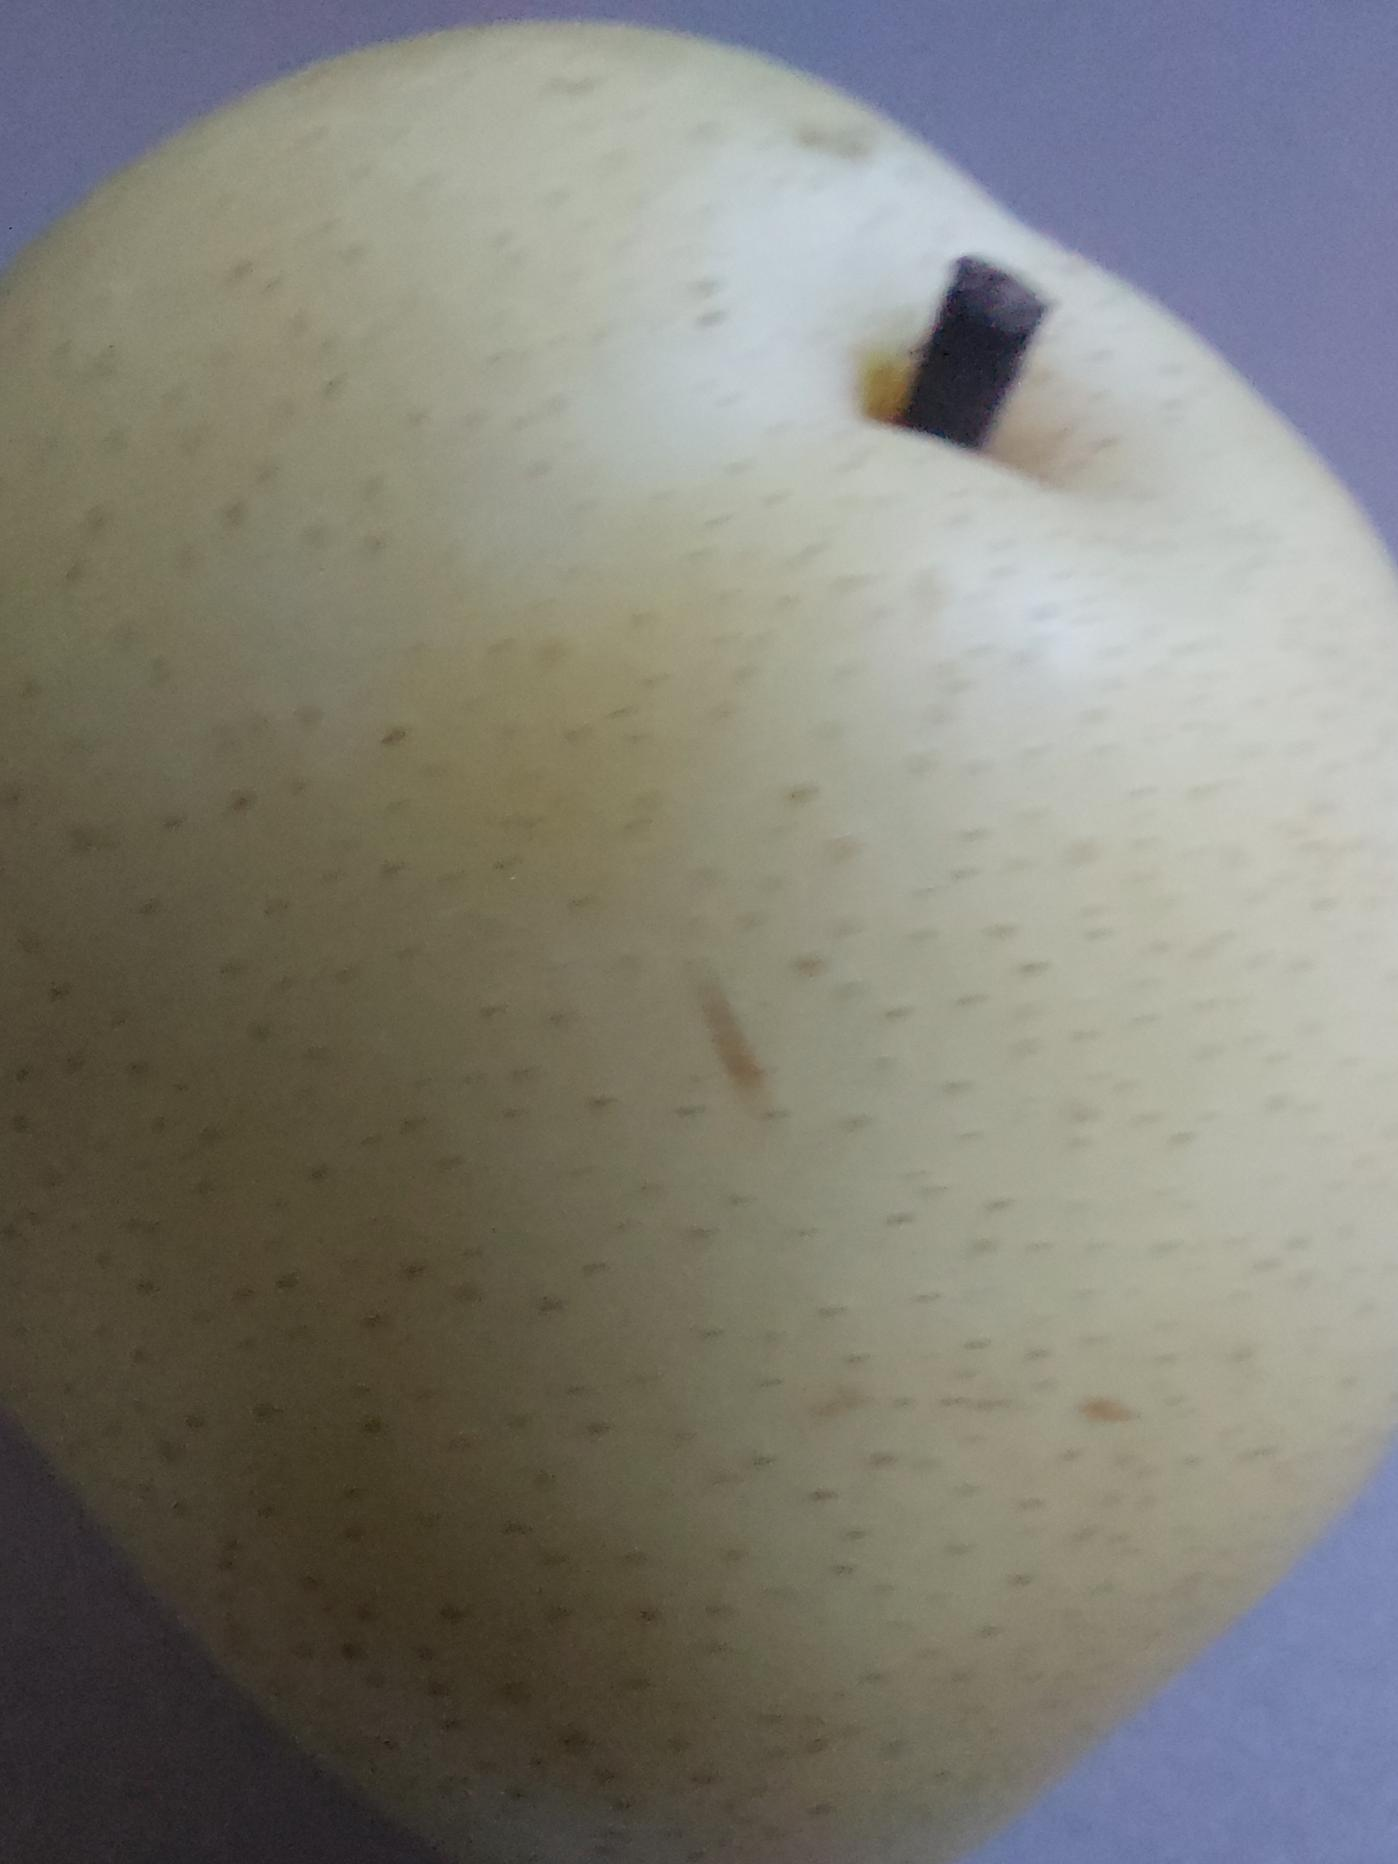Good Pear: (0, 37, 1398, 1864)
